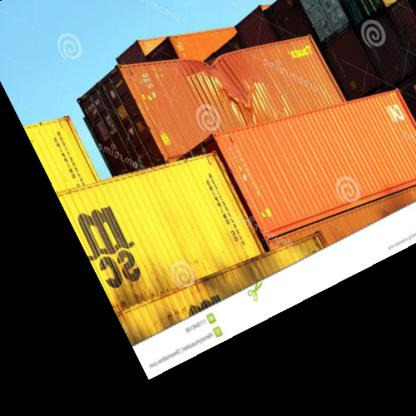Damage: (204, 56, 280, 110)
